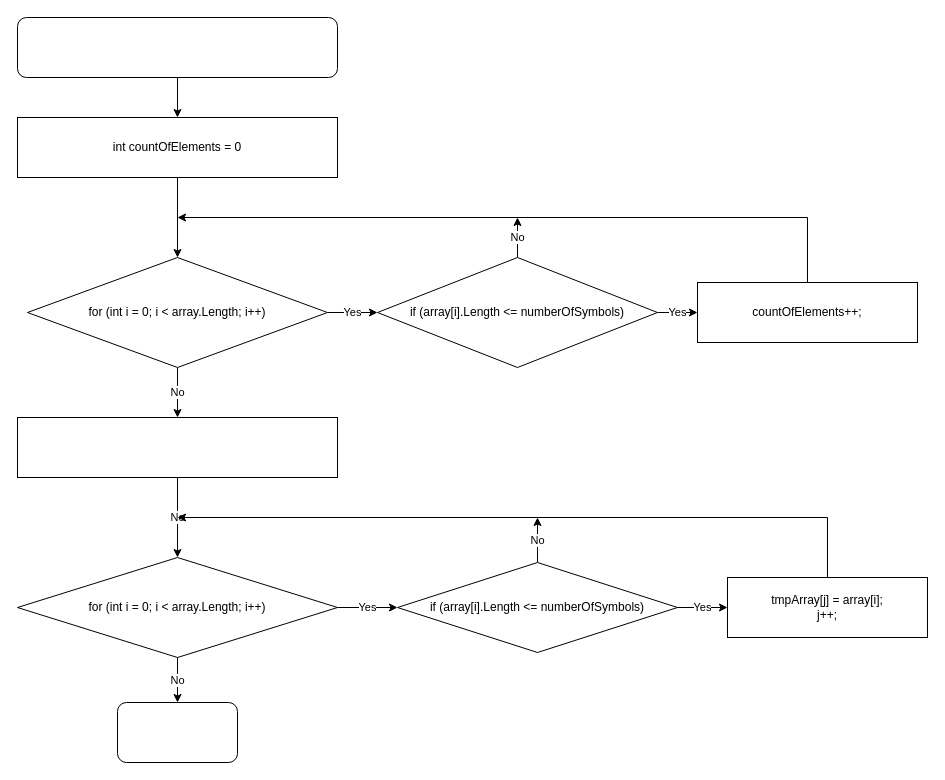
Image size: 945x780. Some labels were removed from this diagram. The centre of each missing label's shape, as x and y in pixels:
"return tmpArray;" belongs at (x=177, y=732).
"string[] ArraySort(string[] array, int numberOfSymbols)" belongs at (x=177, y=47).
"string[] tmpArray = new string[countOfElements]; int j = 0;" belongs at (x=177, y=447).
